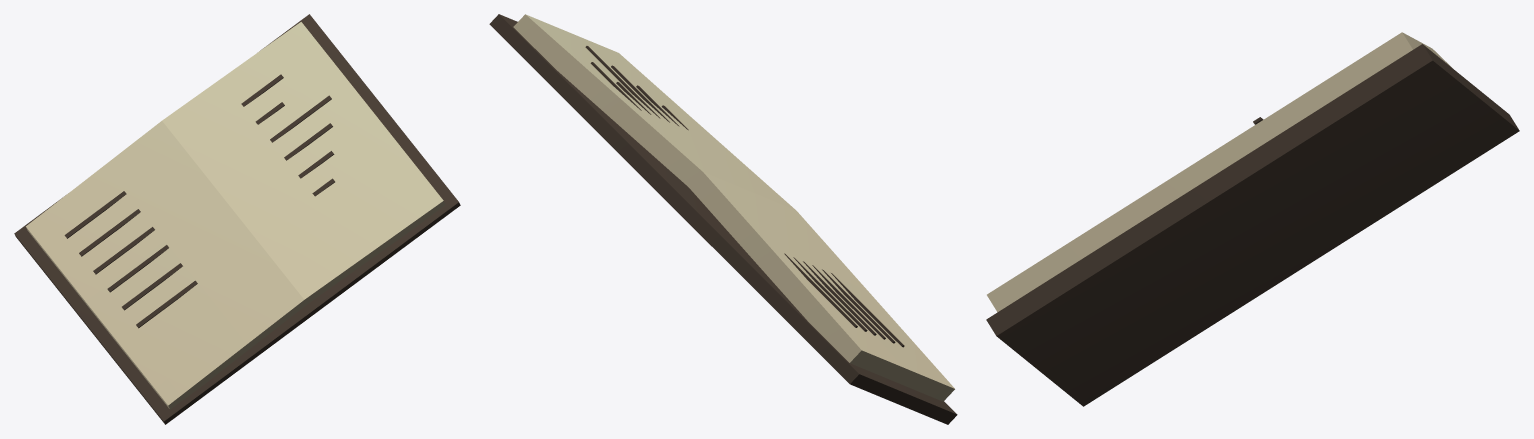
File: ph_tool_kladde.glb
3 views of the same model, side by side, from view 1: azimuth 30°, elevation 25°; view 2: azimuth 150°, elevation 25°; view 3: azimuth 270°, elevation 25° (orthographic). The views are drawn at different scales.
Parts seen in each view (by area): view 1: ph_tool_kladde; view 2: ph_tool_kladde; view 3: ph_tool_kladde.
Part boxes in pixels (bbox=[...]): ph_tool_kladde: bbox=[14, 14, 460, 424]; ph_tool_kladde: bbox=[489, 14, 957, 424]; ph_tool_kladde: bbox=[986, 32, 1519, 406].
Bounding box in the file's own units: 0.2985 × 0.2628 × 0.2169.
